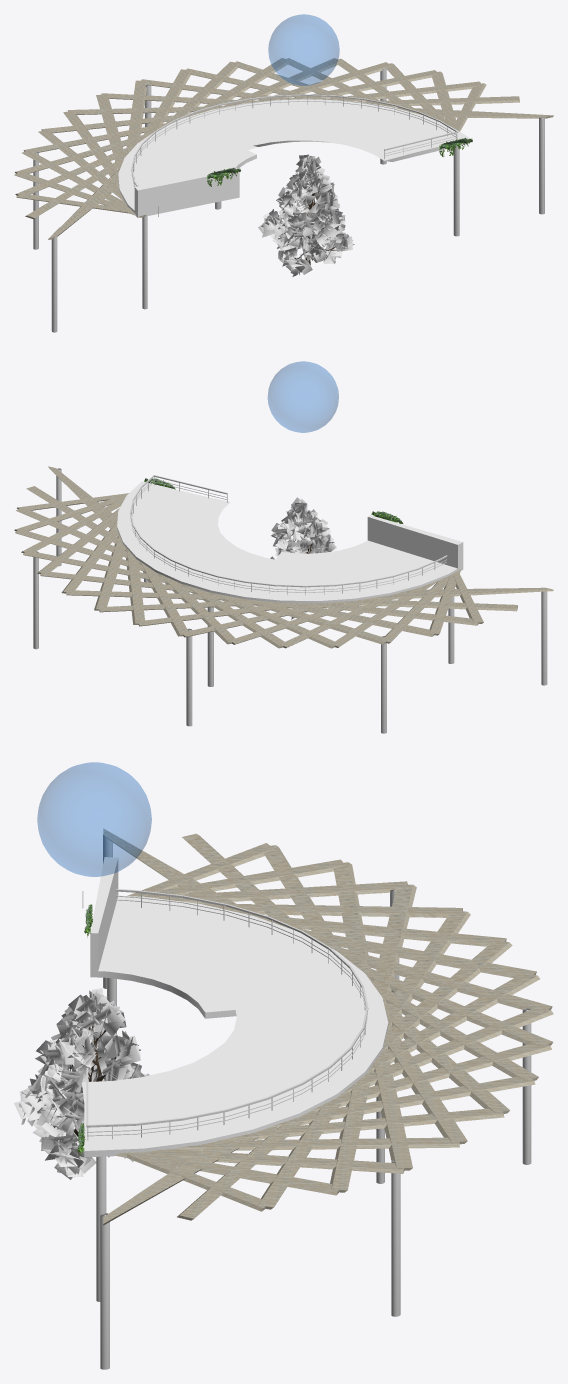
File: edificio1parte2.fbx
3 renders of one model, top to bottom at view 1: azimuth 30°, elevation 25°; view 2: azimuth 150°, elevation 25°; view 3: azimuth 270°, elevation 25°, orthographic. The views are drawn at different scales.
Parts seen in each view (by area): view 1: Cube.006, Circle.010, Bark.019, Sphere.001, Cylinder.002, Circle.012, Object_12.001, Circle.014, Circle.013; view 2: Cube.006, Circle.010, Sphere.001, Cylinder.002, Bark.019, Circle.012, Circle.014, Circle.013; view 3: Cube.006, Circle.010, Bark.019, Sphere.001, Cylinder.002, Circle.012, Circle.013, Circle.014.
Boxes of the visible parts, x1,y1,x2,y2 form: Cube.006: [14, 58, 553, 239]; Circle.010: [118, 99, 471, 217]; Bark.019: [258, 154, 354, 276]; Sphere.001: [268, 14, 339, 85]; Cylinder.002: [33, 68, 544, 332]; Circle.012: [131, 94, 458, 186]; Object_12.001: [207, 138, 472, 186]; Circle.014: [131, 98, 457, 186]; Circle.013: [131, 101, 457, 187]; Cube.006: [14, 466, 553, 648]; Circle.010: [117, 481, 463, 603]; Sphere.001: [268, 361, 338, 432]; Cylinder.002: [33, 468, 547, 733]; Bark.019: [270, 497, 336, 619]; Circle.012: [130, 475, 447, 587]; Circle.014: [130, 479, 446, 590]; Circle.013: [130, 482, 446, 592]; Cube.006: [103, 828, 553, 1225]; Circle.010: [82, 857, 388, 1157]; Bark.019: [14, 988, 149, 1179]; Sphere.001: [37, 762, 151, 876]; Cylinder.002: [96, 834, 531, 1369]; Circle.012: [86, 889, 368, 1127]; Circle.013: [87, 899, 367, 1136]; Circle.014: [87, 895, 367, 1132].
Size of the model in its own units: 7980 by 3868 by 4600.
Materials: 7 (3 with a texture image).
